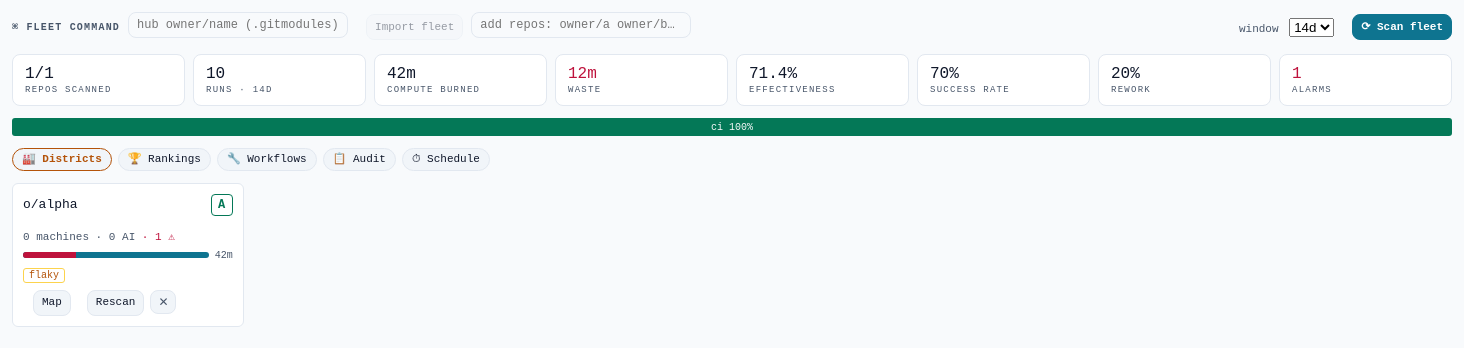
it: FleetOpsPanel › switches to Audit and expands a repo to its findings with a file-issue action
Click the button "📋 Audit".
click(359, 159)  # box [323,148,396,170]
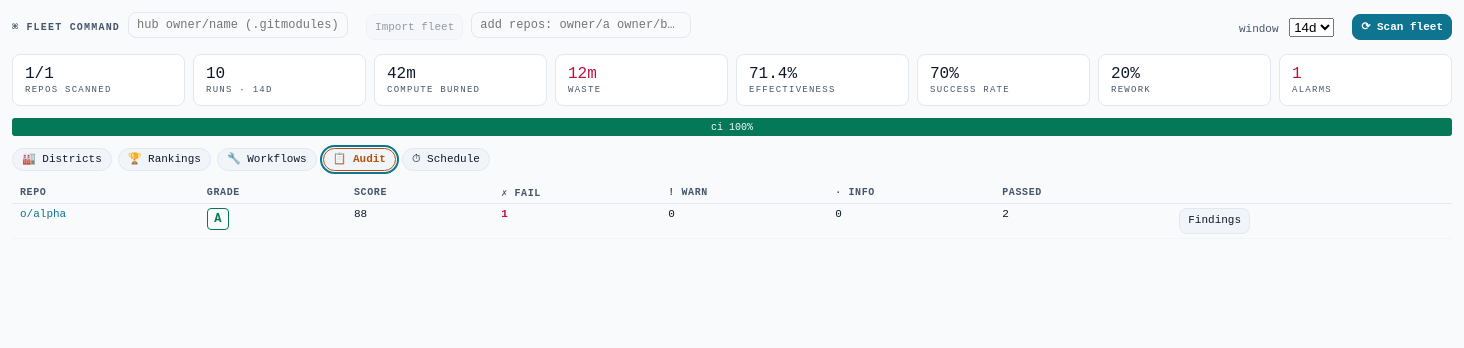
Click the button "Findings".
click(1215, 220)  # box [1179,208,1250,234]
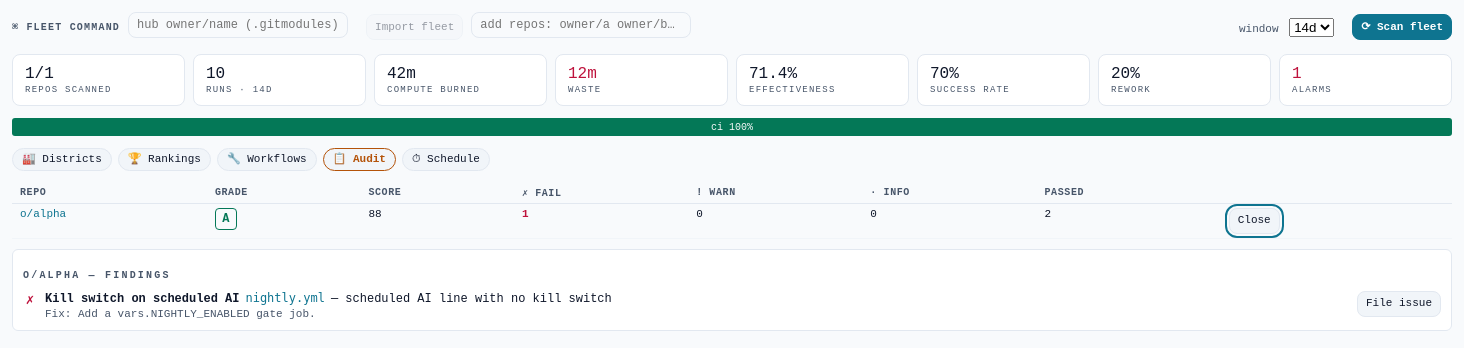
Now the text "scheduled AI line with no kill switch" is shown, box [345,292,612,306]
Now the button "File issue" is shown, box [1357,290,1441,316]
